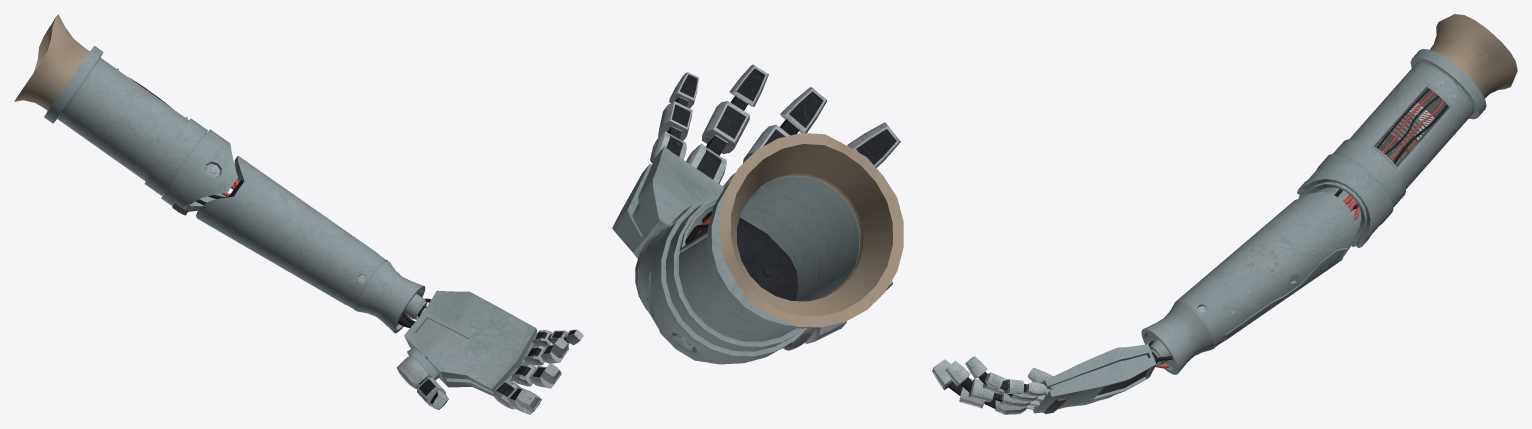
File: hand.glb
The picture shows the model from 3 angles, left to right: view 1: azimuth 30°, elevation 25°; view 2: azimuth 150°, elevation 25°; view 3: azimuth 270°, elevation 25°; orthographic projection. The views are drawn at different scales.
Visible parts, largest first — view 1: robot hand; view 2: robot hand; view 3: robot hand.
Part boxes in pixels (box(x1,y1,x2,y2)): robot hand: box(14, 14, 583, 414); robot hand: box(612, 64, 903, 364); robot hand: box(932, 14, 1517, 414).
Bounding box in the file's own units: 1037 × 844 × 1532.
5 materials, 5 textured.
